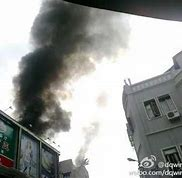smoke: (15, 1, 107, 131)
